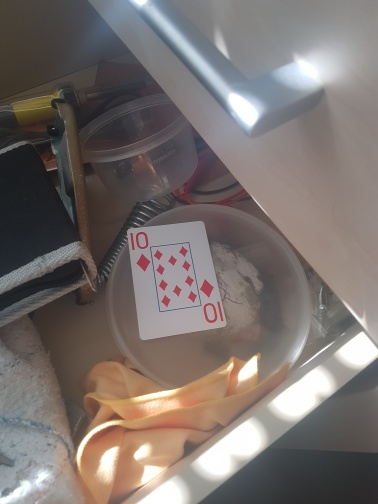ten: (129, 221, 228, 339)
